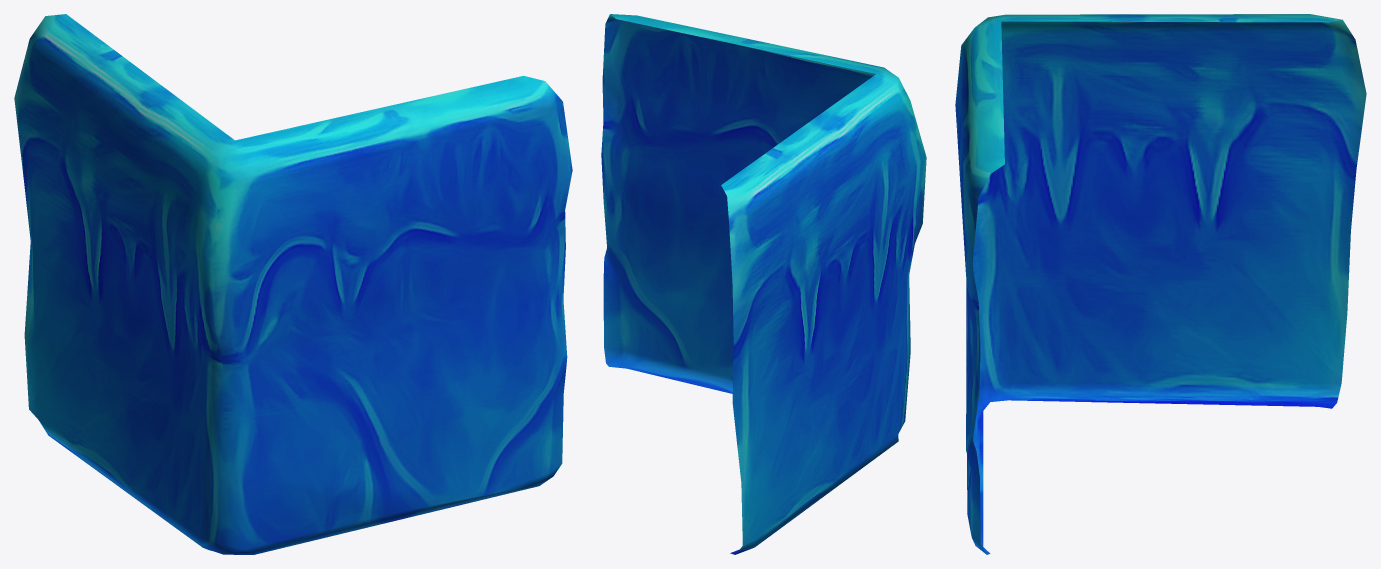
Rendered from IceCube4.fbx.
3 views of the same model, side by side, from view 1: azimuth 30°, elevation 25°; view 2: azimuth 150°, elevation 25°; view 3: azimuth 270°, elevation 25° (orthographic). The views are drawn at different scales.
Visible parts, largest first — view 1: ice_cube_4; view 2: ice_cube_4; view 3: ice_cube_4.
Part boxes in pixels (left/top/right/bottom): ice_cube_4: left=14, top=14, right=572, bottom=554; ice_cube_4: left=601, top=14, right=926, bottom=554; ice_cube_4: left=955, top=14, right=1366, bottom=554.
Size of the model in its own units: 99 by 106 by 101.
